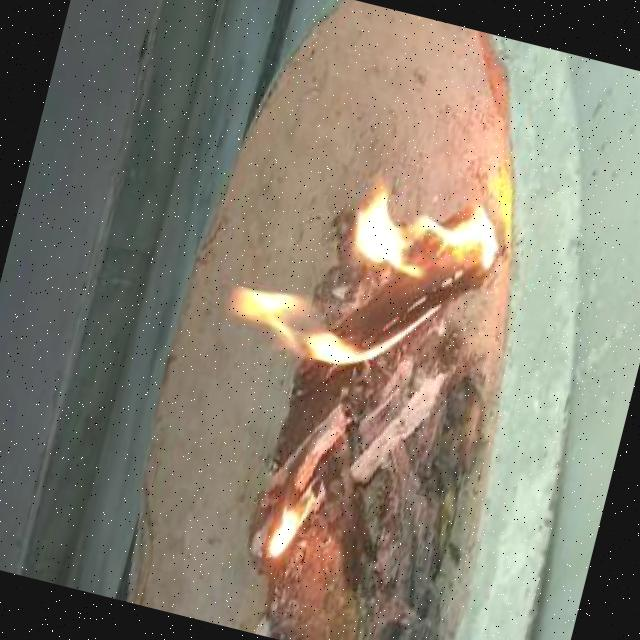fire: (215, 132, 521, 408), (227, 438, 340, 579)
